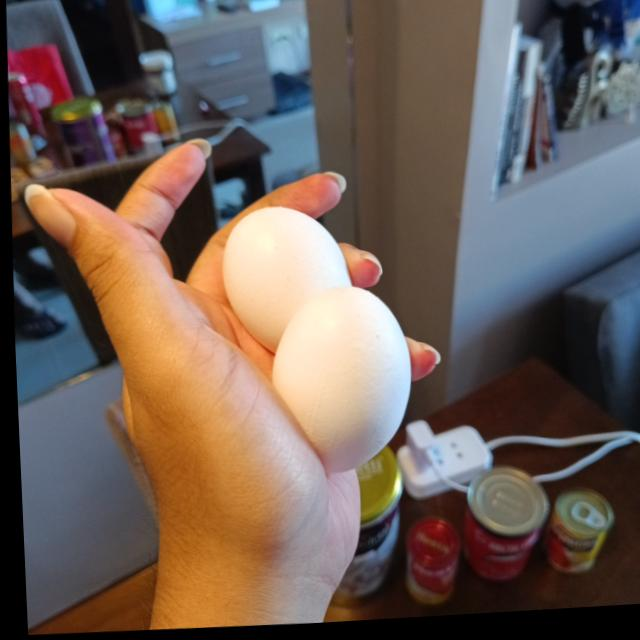egg: (262, 285, 415, 481), (221, 204, 349, 339)
